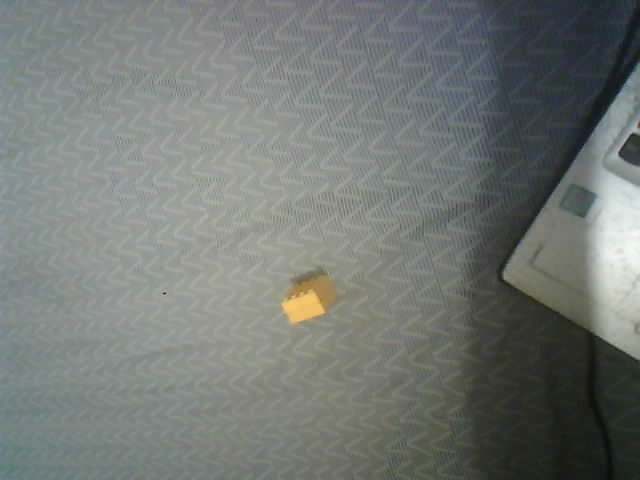lego: (281, 273, 337, 325)
